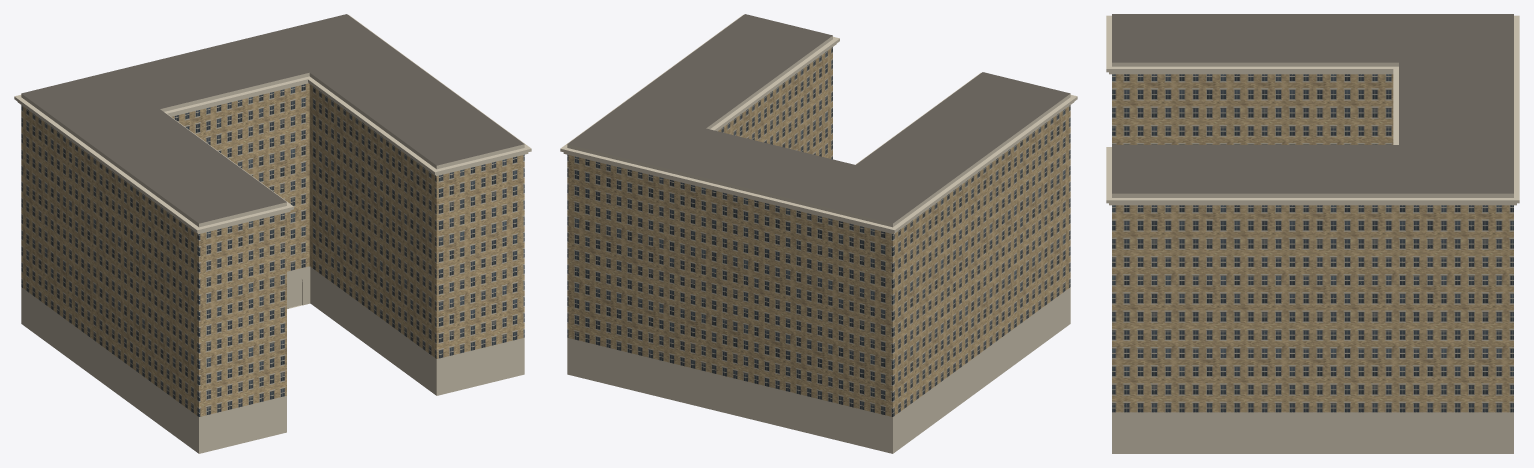
The model's file is fairmont_olympic.glb.
3 renders of one model, left to right at view 1: azimuth 30°, elevation 25°; view 2: azimuth 150°, elevation 25°; view 3: azimuth 270°, elevation 25°, orthographic. The views are drawn at different scales.
Visible parts, largest first — view 1: fairmont_olympic; view 2: fairmont_olympic; view 3: fairmont_olympic.
Boxes of the visible parts, left/top/right/bottom form: fairmont_olympic: left=14, top=14, right=531, bottom=453; fairmont_olympic: left=560, top=14, right=1077, bottom=453; fairmont_olympic: left=1106, top=14, right=1519, bottom=453.
Size of the model in its own units: 76 by 50 by 72.
2 materials, 2 textured.
